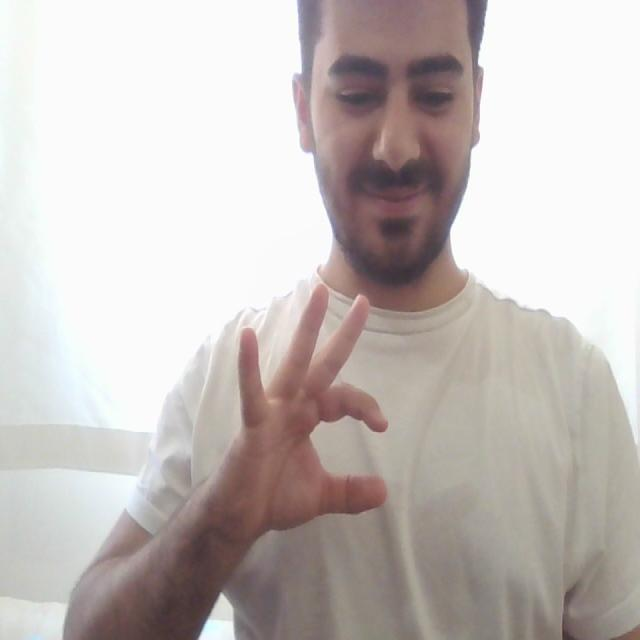Tuvalet: (186, 269, 418, 569)
